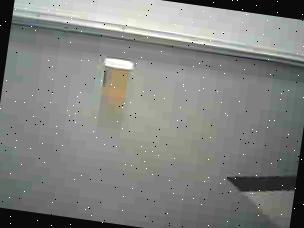Bottle B: (88, 52, 142, 114)
